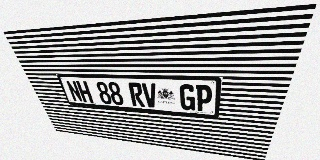8: (95, 81, 113, 104), (107, 82, 124, 105)
G: (180, 84, 195, 111)
H: (76, 81, 94, 103)
N: (65, 80, 83, 102)
P: (195, 85, 213, 112)
R: (128, 82, 145, 107)
V: (141, 83, 158, 108)
